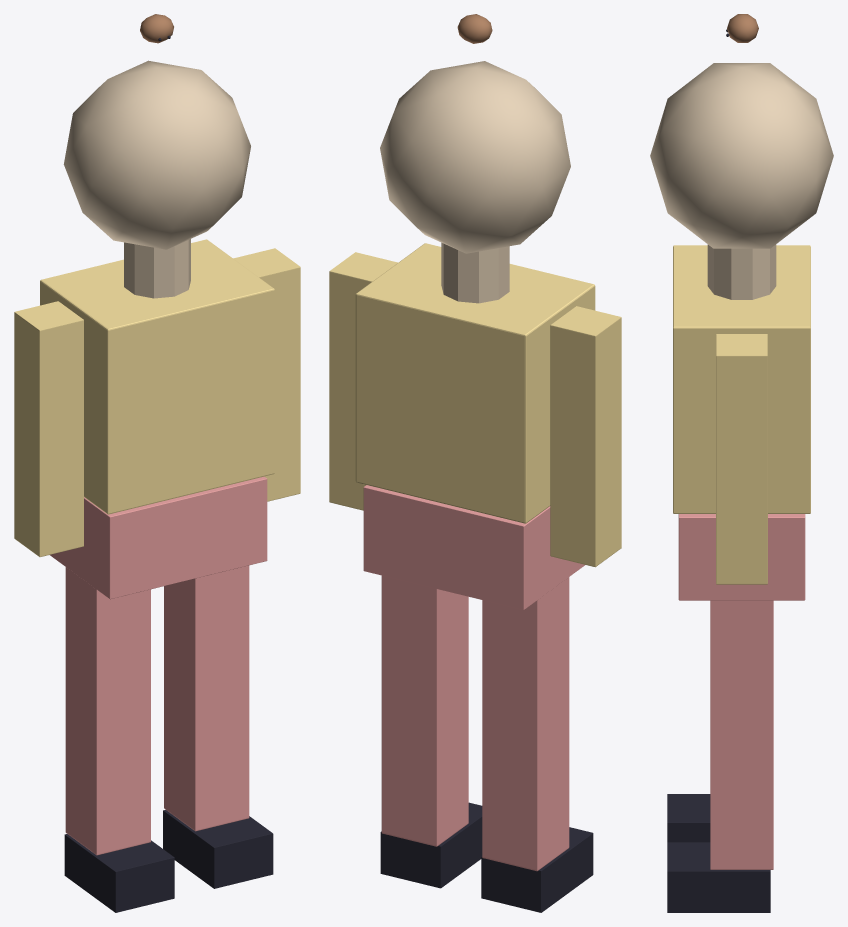
Rendered from pip-photo.glb.
3 views of the same model, side by side, from view 1: azimuth 30°, elevation 25°; view 2: azimuth 150°, elevation 25°; view 3: azimuth 270°, elevation 25° (orthographic).
Visible parts, largest first — view 1: pip-photo_Body, pip-photo_Head, pip-photo_LeftLeg, pip-photo_RightLeg, pip-photo_LeftArm, pip-photo_Hips, pip-photo_RightArm, pip-photo_LeftShoe, pip-photo_RightShoe, pip-photo_Neck, pip-photo_Hair; view 2: pip-photo_Body, pip-photo_Head, pip-photo_LeftLeg, pip-photo_RightLeg, pip-photo_LeftArm, pip-photo_Hips, pip-photo_RightArm, pip-photo_LeftShoe, pip-photo_RightShoe, pip-photo_Neck, pip-photo_Hair; view 3: pip-photo_Head, pip-photo_Body, pip-photo_RightLeg, pip-photo_RightArm, pip-photo_Hips, pip-photo_RightShoe, pip-photo_Neck, pip-photo_LeftShoe, pip-photo_Hair.
Part boxes in pixels (x1=…): pip-photo_Body: x1=40, y1=239, x2=274, y2=514; pip-photo_Head: x1=63, y1=60, x2=250, y2=249; pip-photo_LeftLeg: x1=65, y1=567, x2=150, y2=855; pip-photo_RightLeg: x1=164, y1=565, x2=249, y2=831; pip-photo_LeftArm: x1=14, y1=301, x2=83, y2=556; pip-photo_Hips: x1=50, y1=476, x2=267, y2=599; pip-photo_RightArm: x1=233, y1=248, x2=300, y2=501; pip-photo_LeftShoe: x1=64, y1=834, x2=174, y2=912; pip-photo_RightShoe: x1=163, y1=810, x2=273, y2=888; pip-photo_Neck: x1=124, y1=239, x2=190, y2=298; pip-photo_Hair: x1=140, y1=14, x2=173, y2=43; pip-photo_Body: x1=355, y1=243, x2=595, y2=523; pip-photo_Head: x1=380, y1=61, x2=570, y2=253; pip-photo_LeftLeg: x1=482, y1=577, x2=569, y2=871; pip-photo_RightLeg: x1=381, y1=575, x2=468, y2=846; pip-photo_LeftArm: x1=550, y1=306, x2=621, y2=567; pip-photo_Hips: x1=363, y1=485, x2=584, y2=609; pip-photo_RightArm: x1=329, y1=252, x2=397, y2=510; pip-photo_LeftShoe: x1=481, y1=827, x2=593, y2=912; pip-photo_RightShoe: x1=380, y1=802, x2=482, y2=888; pip-photo_Neck: x1=441, y1=242, x2=509, y2=303; pip-photo_Hair: x1=457, y1=14, x2=492, y2=43; pip-photo_Head: x1=650, y1=63, x2=833, y2=248; pip-photo_Body: x1=673, y1=245, x2=810, y2=513; pip-photo_RightLeg: x1=710, y1=600, x2=773, y2=869; pip-photo_RightArm: x1=716, y1=334, x2=767, y2=584; pip-photo_Hips: x1=678, y1=514, x2=805, y2=600; pip-photo_RightShoe: x1=667, y1=842, x2=770, y2=912; pip-photo_Neck: x1=707, y1=244, x2=776, y2=299; pip-photo_LeftShoe: x1=667, y1=794, x2=710, y2=842; pip-photo_Hair: x1=727, y1=14, x2=758, y2=42.
Size of the model in its own units: 0.53 by 1.65 by 0.32.
